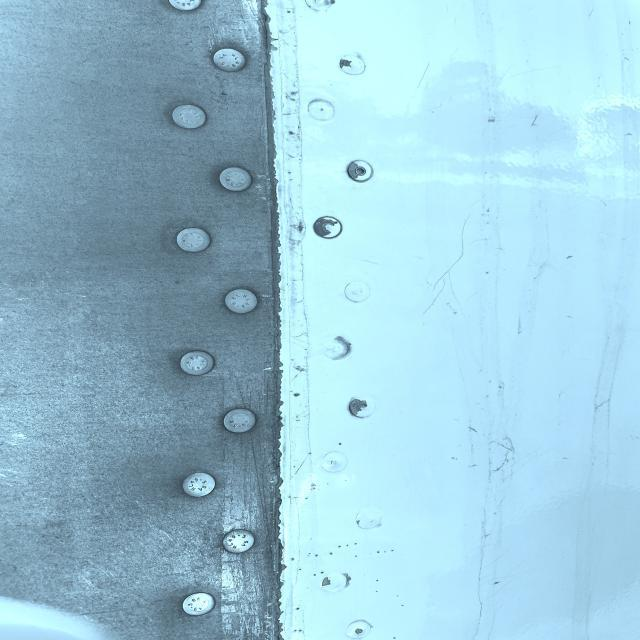crack: (416, 205, 489, 315), (481, 437, 543, 478), (520, 107, 547, 130), (421, 61, 437, 92)
